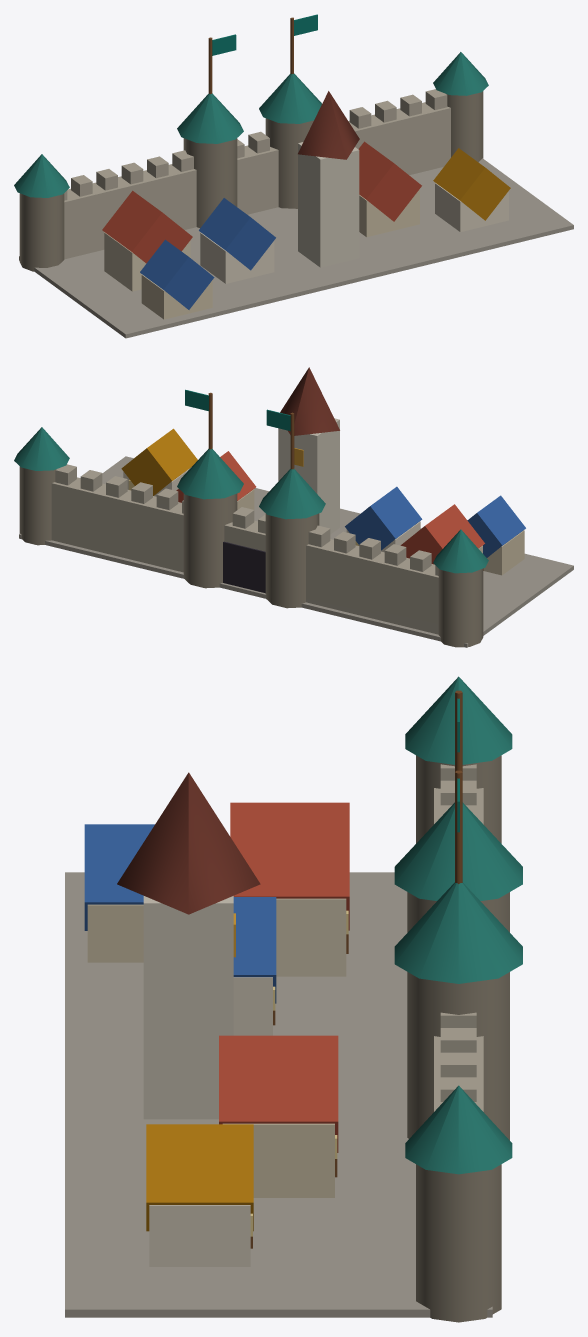
Rendered from cidade.fbx.
3 renders of one model, top to bottom at view 1: azimuth 30°, elevation 25°; view 2: azimuth 150°, elevation 25°; view 3: azimuth 270°, elevation 25°, orthographic. The views are drawn at different scales.
Parts seen in each view (by area): view 1: cidade; view 2: cidade; view 3: cidade.
Boxes of the visible parts, box(x1,y1,x2,y2) form: cidade: box(14, 14, 573, 338); cidade: box(14, 367, 573, 647); cidade: box(65, 676, 522, 1322).
Bounding box in the file's own units: 4.8 × 1.8 × 2.04.
